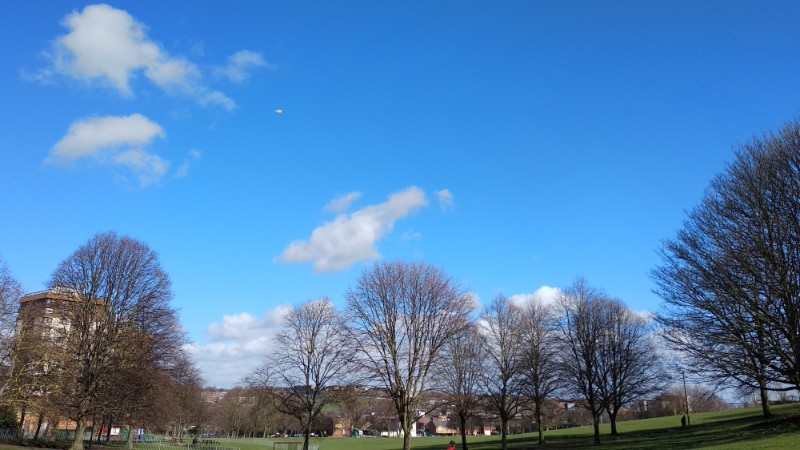drone: (273, 106, 282, 115)
